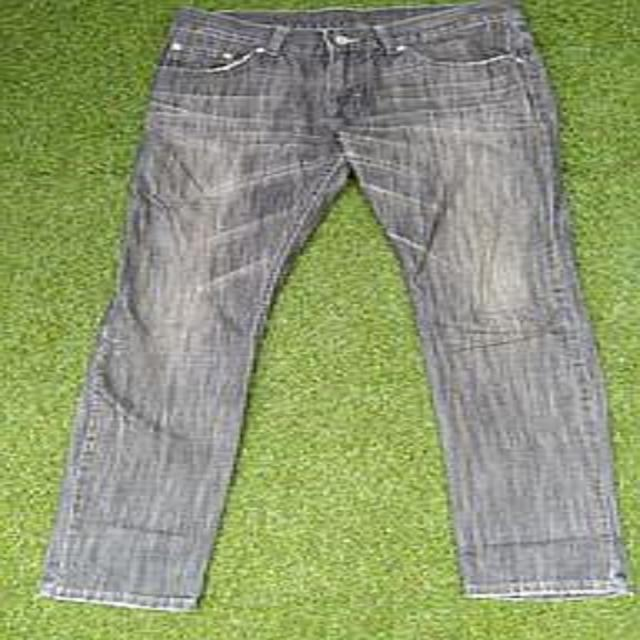TROUSER: (19, 4, 640, 617)
